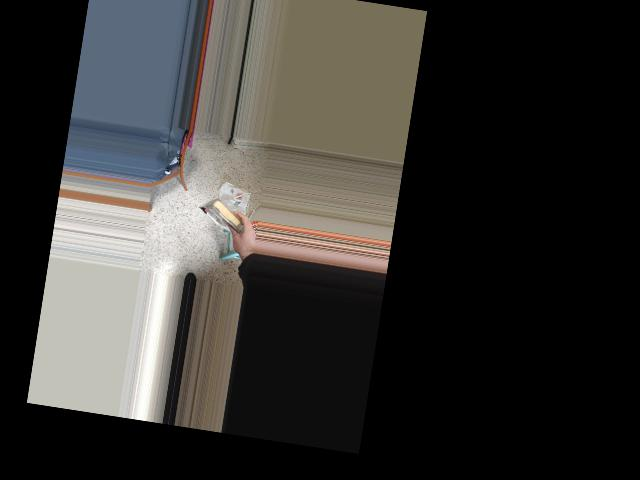cheese: (195, 194, 258, 239)
